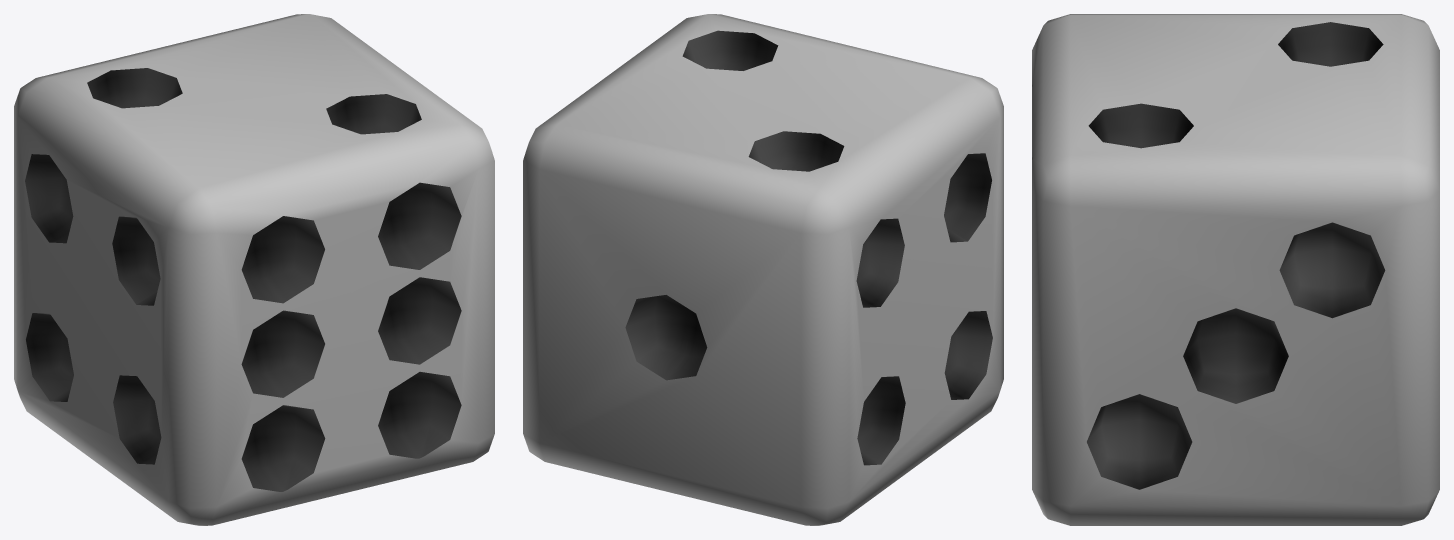
File: Dice_V1_0.fbx
3 renders of one model, left to right at view 1: azimuth 30°, elevation 25°; view 2: azimuth 150°, elevation 25°; view 3: azimuth 270°, elevation 25°, orthographic. The views are drawn at different scales.
Parts seen in each view (by area): view 1: Dice_V1_0; view 2: Dice_V1_0; view 3: Dice_V1_0.
Boxes of the visible parts, box(x1,y1,x2,y2) form: Dice_V1_0: box(14, 14, 494, 525); Dice_V1_0: box(523, 14, 1003, 525); Dice_V1_0: box(1032, 14, 1439, 525).
Bounding box in the file's own units: 0.3276 × 0.3276 × 0.3276.
